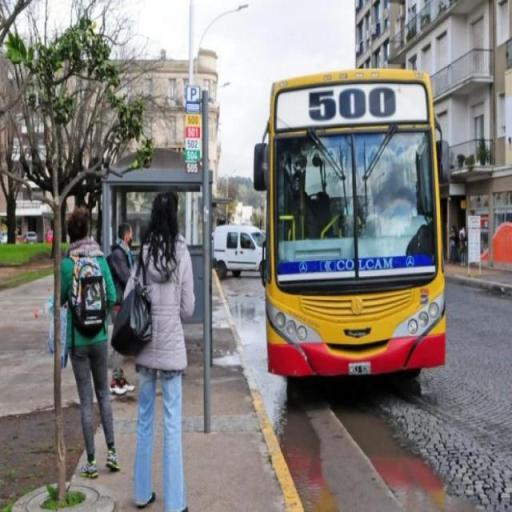person: (124, 192, 197, 512), (57, 209, 121, 478), (110, 222, 135, 396), (459, 225, 469, 267), (449, 226, 459, 265)
